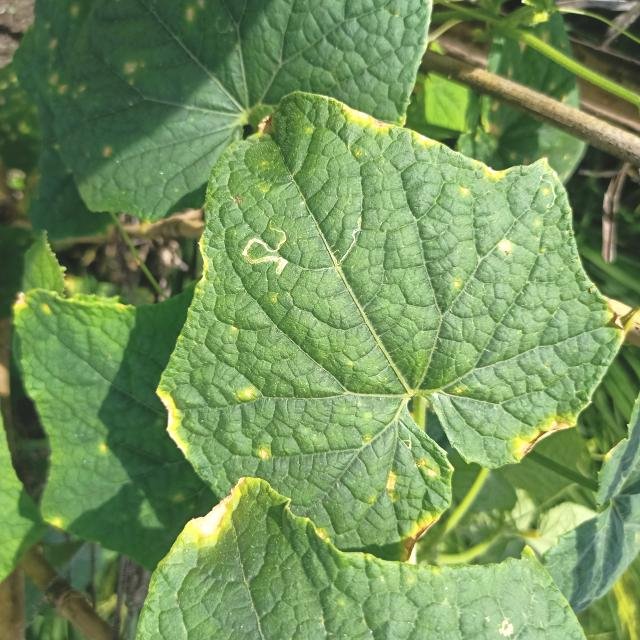disease_cucumber: (382, 456, 444, 539), (458, 163, 504, 199), (235, 385, 256, 404), (497, 238, 512, 258), (257, 442, 271, 462)
